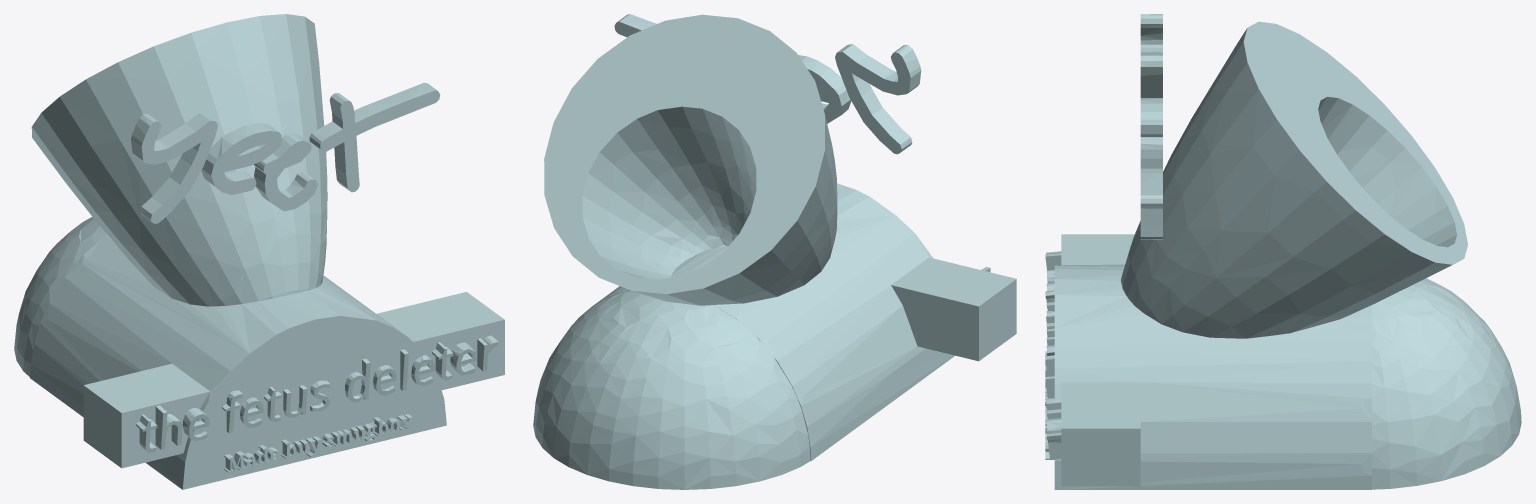
Rendered from cannon.glb.
The picture shows the model from 3 angles, left to right: view 1: azimuth 30°, elevation 25°; view 2: azimuth 150°, elevation 25°; view 3: azimuth 270°, elevation 25°; orthographic projection. The views are drawn at different scales.
Visible parts, largest first — view 1: Mesh_Mesh_head_geo.001_lambert2SG.001; view 2: Mesh_Mesh_head_geo.001_lambert2SG.001; view 3: Mesh_Mesh_head_geo.001_lambert2SG.001.
Boxes of the visible parts, <box> form: Mesh_Mesh_head_geo.001_lambert2SG.001: <box>14,14,504,489</box>; Mesh_Mesh_head_geo.001_lambert2SG.001: <box>533,14,1016,489</box>; Mesh_Mesh_head_geo.001_lambert2SG.001: <box>1045,14,1521,489</box>.
Bounding box in the file's own units: 29 × 26.63 × 30.
